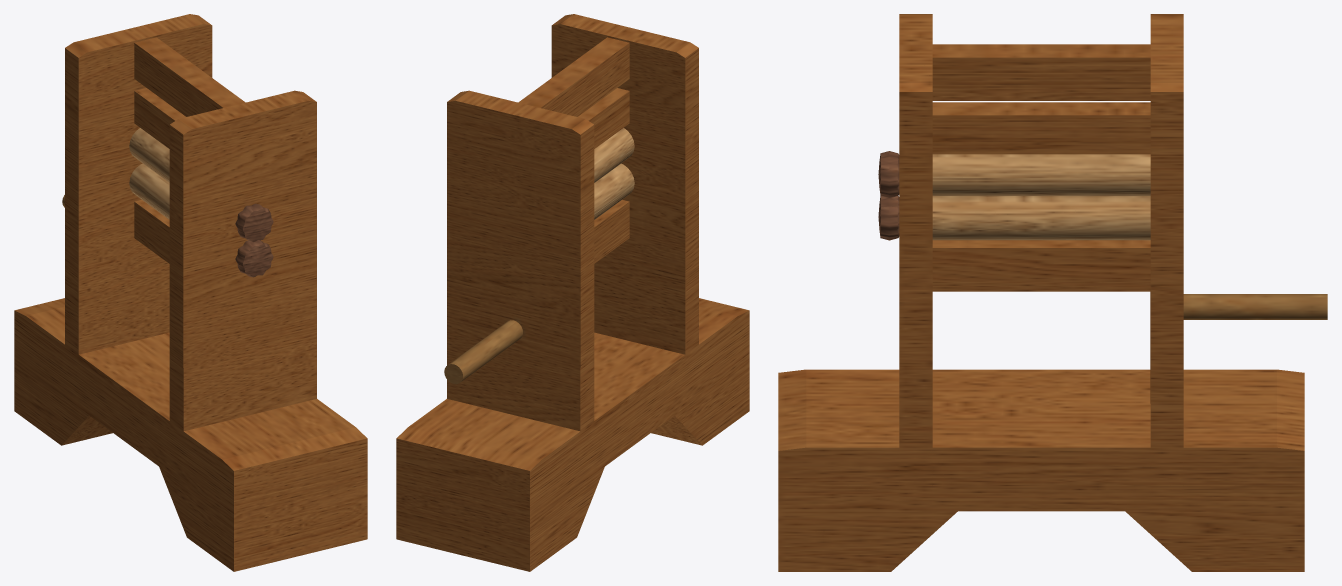
File: Lilidsan.glb
3 renders of one model, left to right at view 1: azimuth 30°, elevation 25°; view 2: azimuth 150°, elevation 25°; view 3: azimuth 270°, elevation 25°, orthographic. The views are drawn at different scales.
Parts seen in each view (by area): view 1: pCube1.005; view 2: pCube1.005; view 3: pCube1.005.
Part boxes in pixels (<box>): pCube1.005: <box>14,14,367,571</box>; pCube1.005: <box>396,14,749,571</box>; pCube1.005: <box>778,14,1327,571</box>.
Size of the model in its own units: 0.0455 by 0.1315 by 0.1352.
1 material, 1 textured.
